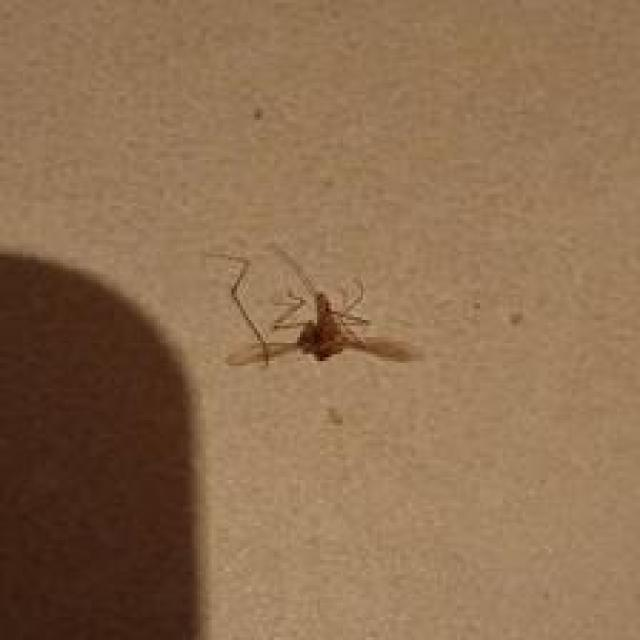Culex: (206, 240, 414, 371)
